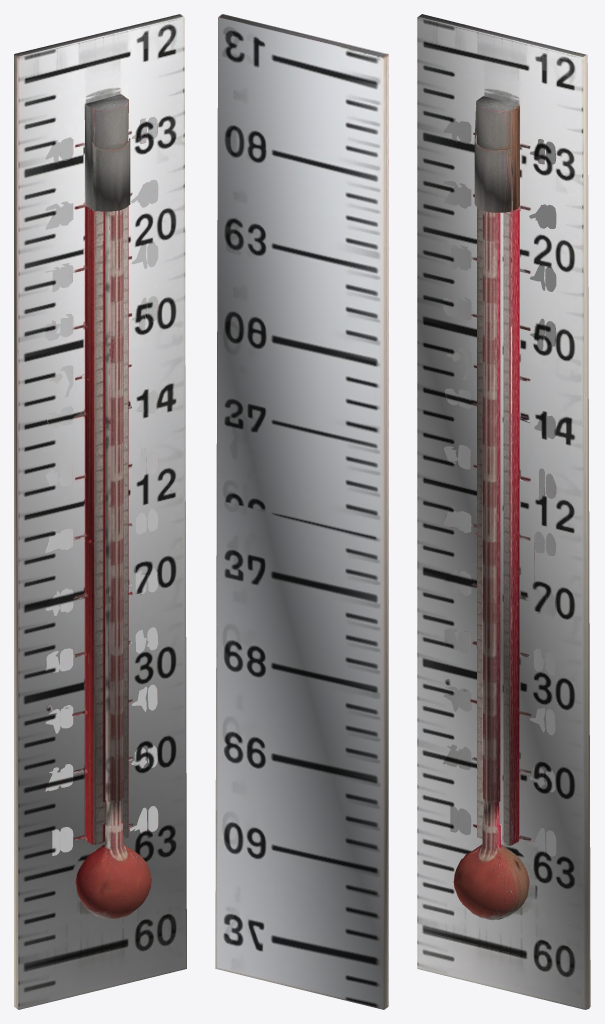
The model's file is thermometer.glb.
3 views of the same model, side by side, from view 1: azimuth 30°, elevation 25°; view 2: azimuth 150°, elevation 25°; view 3: azimuth 330°, elevation 25° (orthographic).
Size of the model in its own units: 0.1768 by 0.9478 by 0.0567.
1 material, 1 textured.
